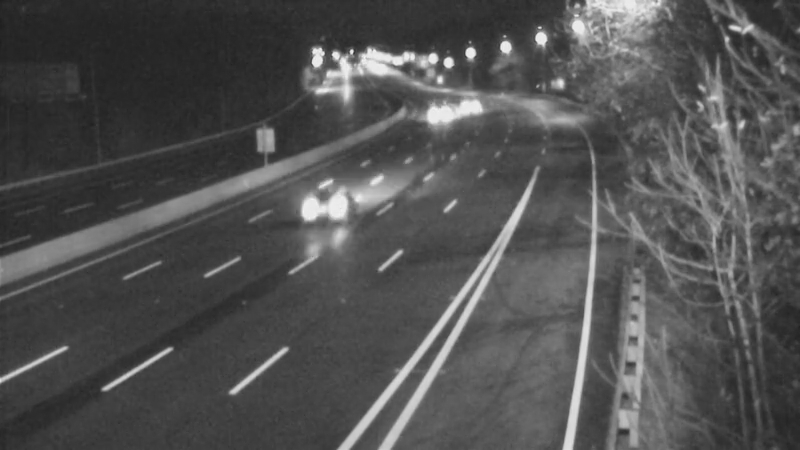vehicle: (295, 160, 375, 240), (442, 75, 492, 125), (411, 86, 461, 136)
